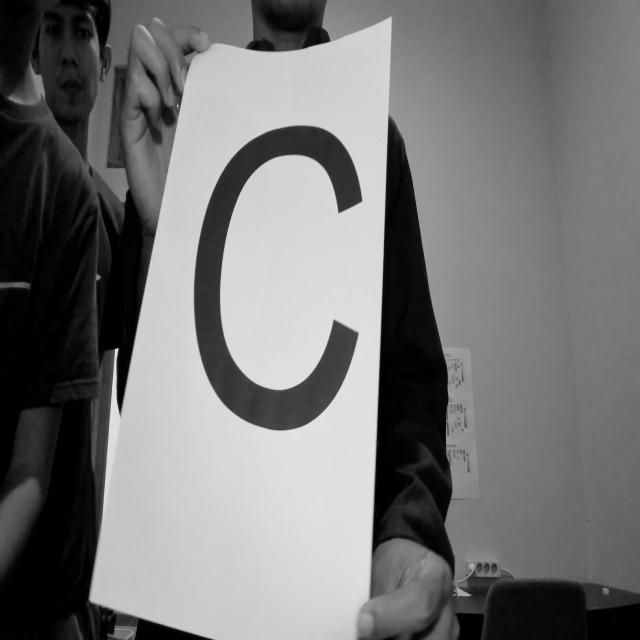c: (190, 90, 368, 490)
